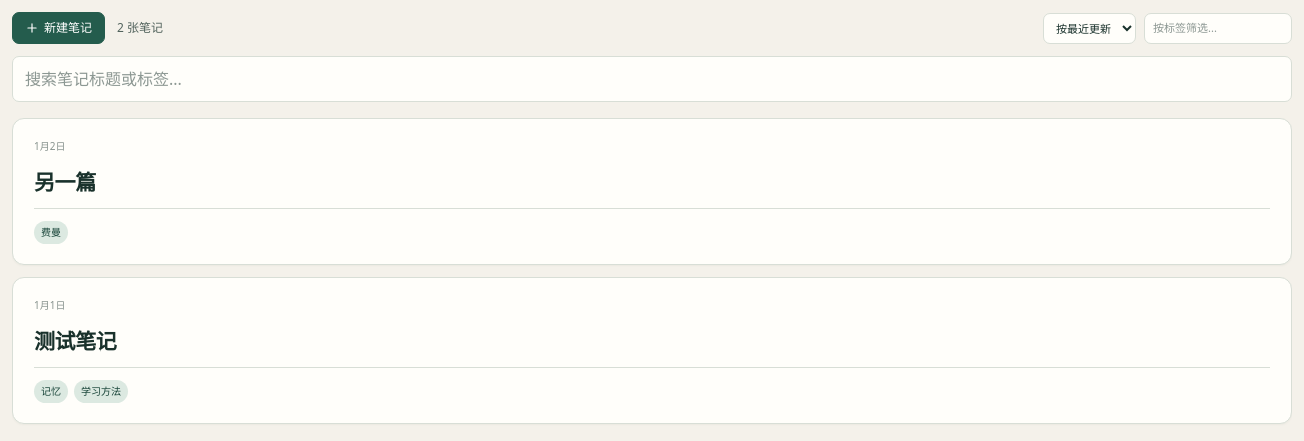
Test: NoteList › 按标签筛选：输入标签仅展示包含该标签的笔记
Expected: the number of elements with class "note-card" is 2, [12,118,1292,265]; [12,277,1292,424]
Type "记忆" into the field with class "tag-filter-input" at (1218, 28), box [1144,12,1292,44]
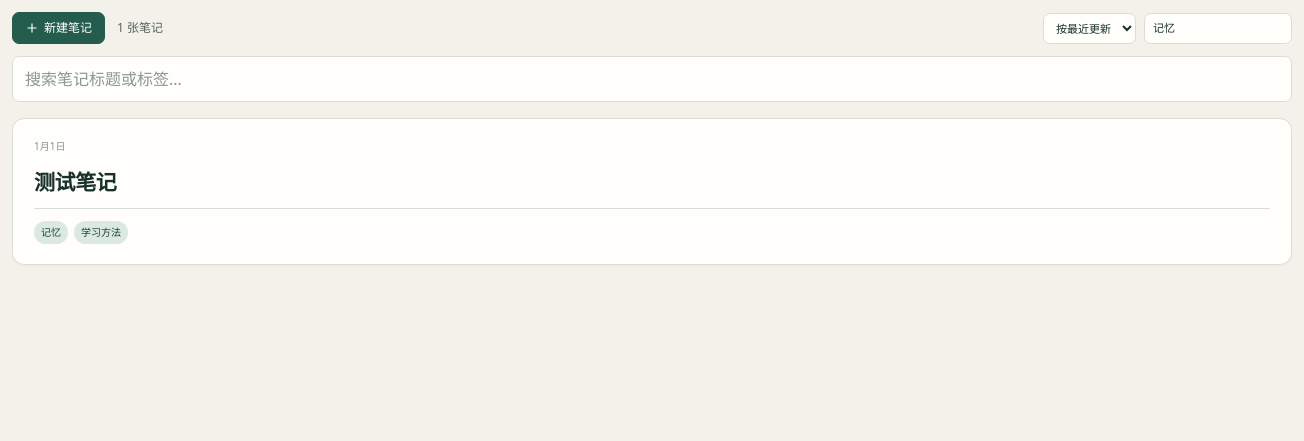
Expected: the element with class "note-card" shows "测试笔记", [34,171,116,195]
Expected: the number of elements with class "note-card" is 1, [12,118,1292,265]
